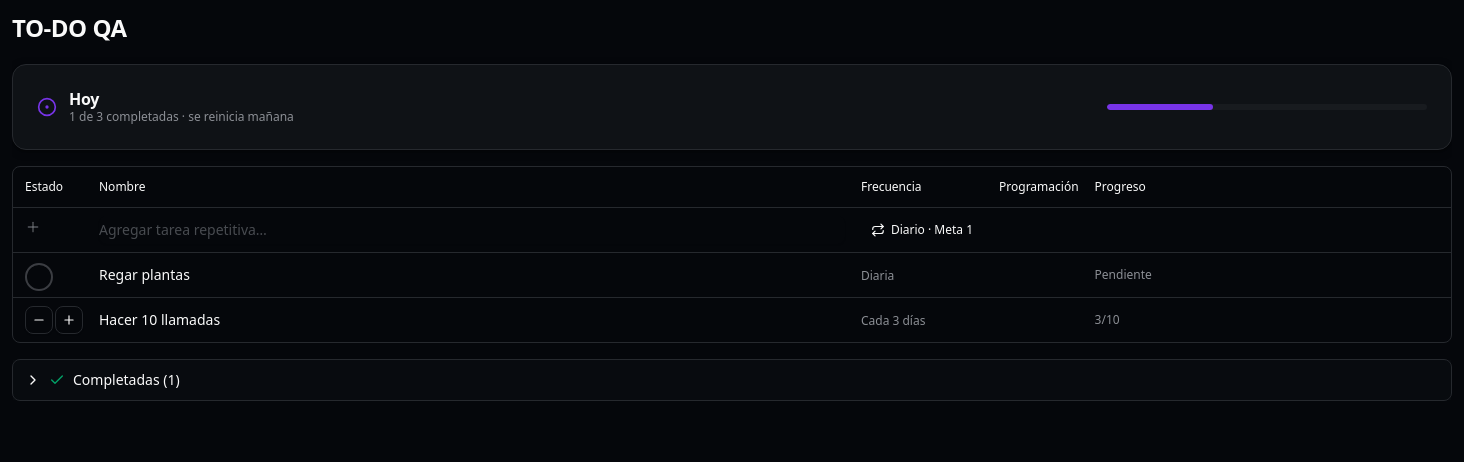
Test: ToDoView › completadas ocultas por defecto y expandibles
Expected: the text "Cerrar caja" is not shown
Click the button "Completadas (1)" at (120, 379), box [13,360,1451,400]
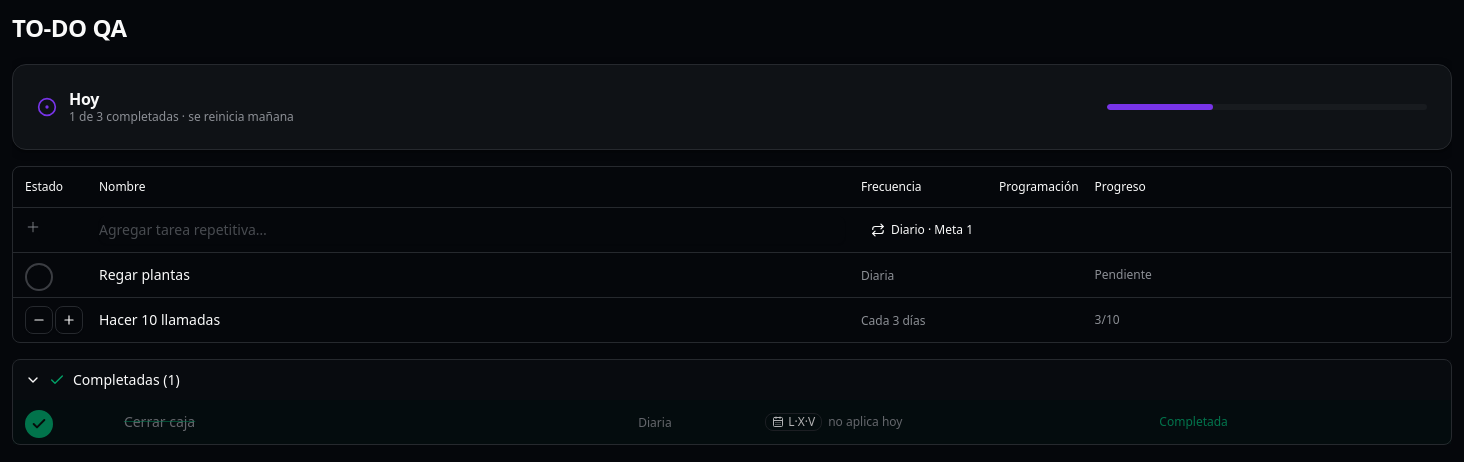
Result: the text "Cerrar caja" is shown at [124,412,195,430]
